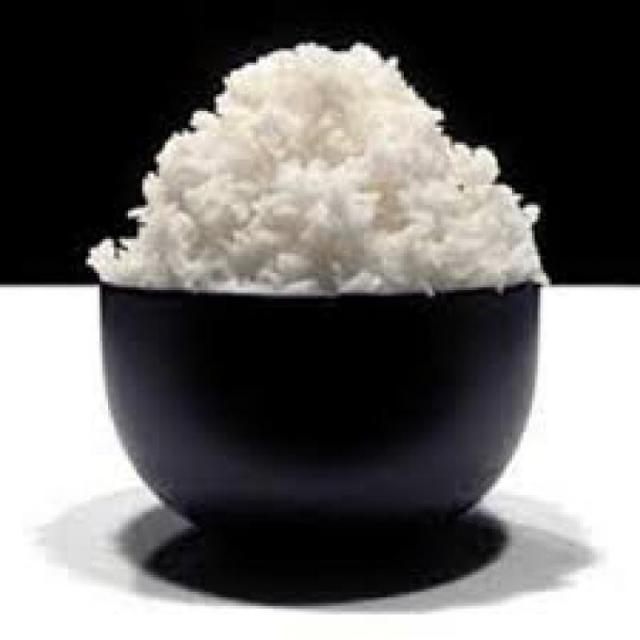nasi_putih: (92, 39, 549, 296)
